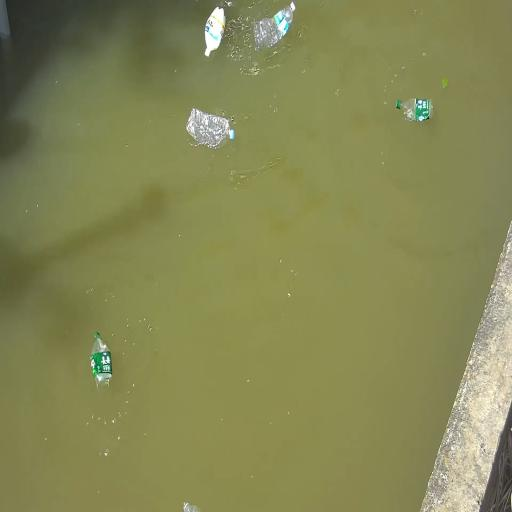plastic: (254, 2, 296, 52), (186, 107, 234, 149), (91, 333, 111, 385), (205, 5, 225, 56), (396, 99, 432, 121), (184, 503, 200, 511)
